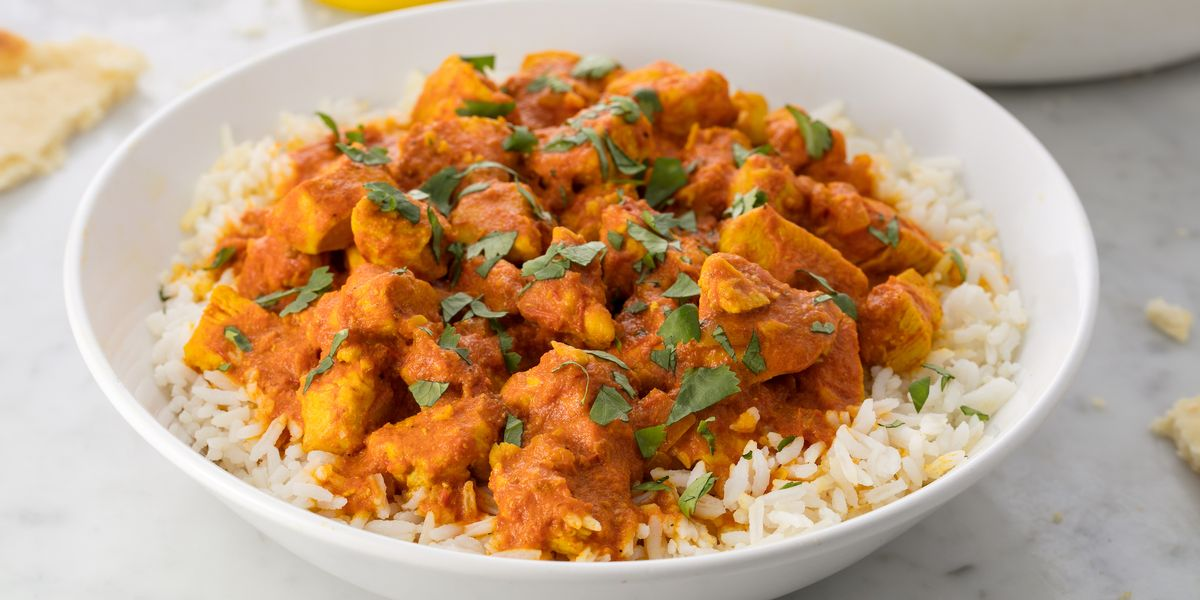curry: (250, 68, 923, 498)
